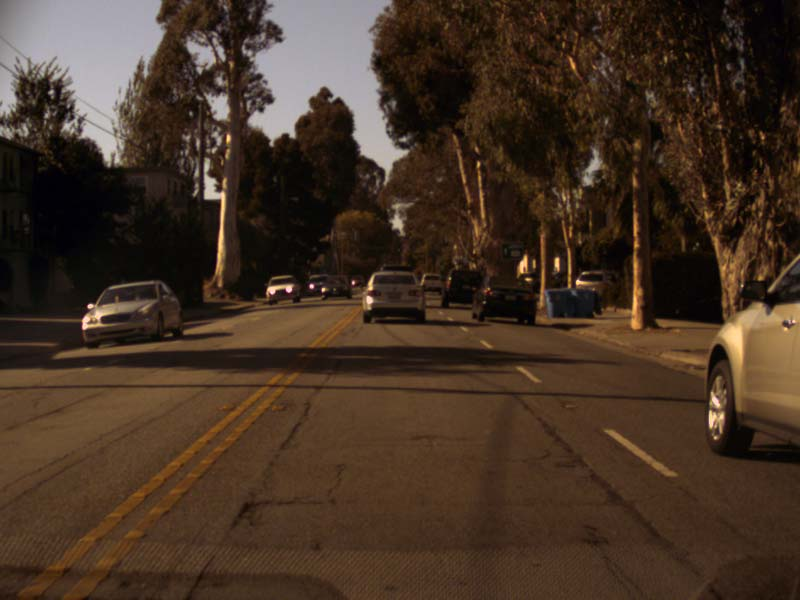Green: (395, 243, 400, 252), (439, 262, 444, 269)
